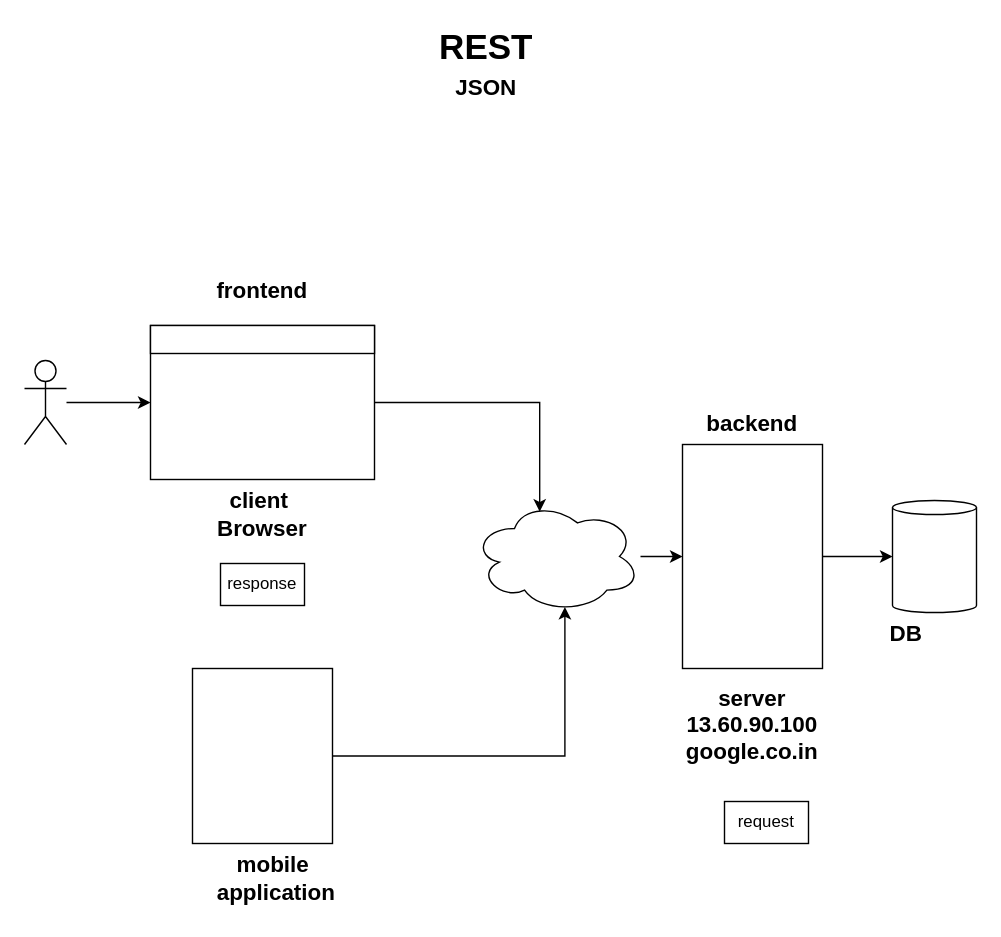
Some shapes in this 1001 by 937 pixel diagram are drawn without their labels. Here are the shapes that lost their labels. From the top down, the centre of each, then its label:
At (261,339): "https://google.co.in".
At (44,401): "user".
